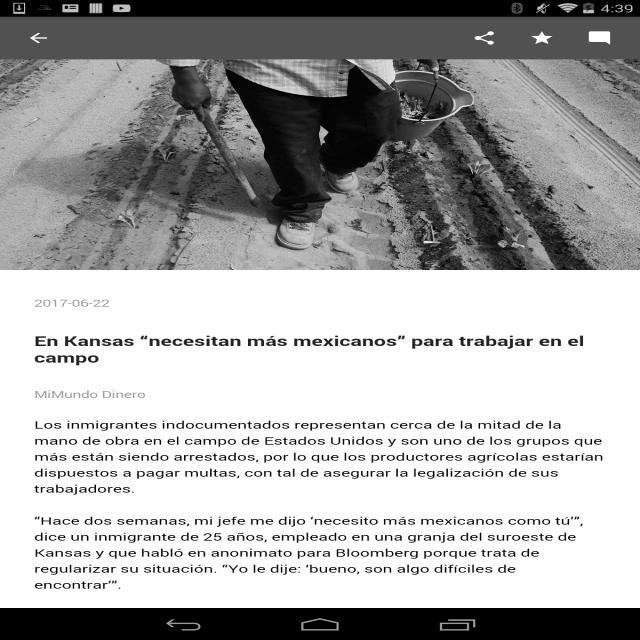ImageButton: (578, 29, 617, 50), (22, 28, 56, 50), (474, 30, 508, 52), (528, 29, 558, 50)
ImageView: (5, 61, 635, 268)
TextView: (28, 415, 606, 484), (29, 513, 580, 575), (30, 332, 592, 354), (27, 293, 124, 310)
